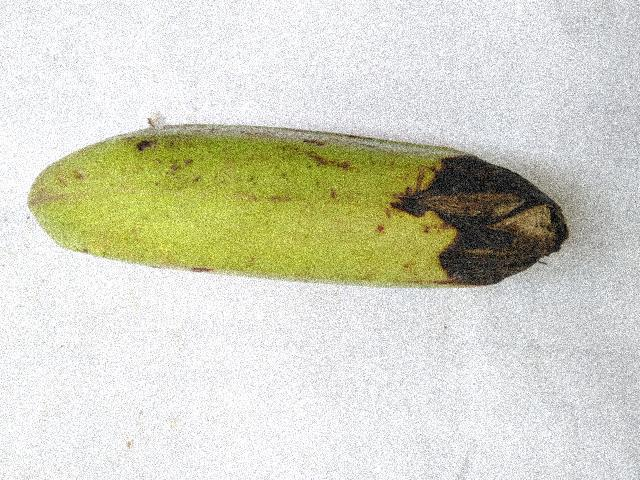rotten: (376, 116, 574, 325)
